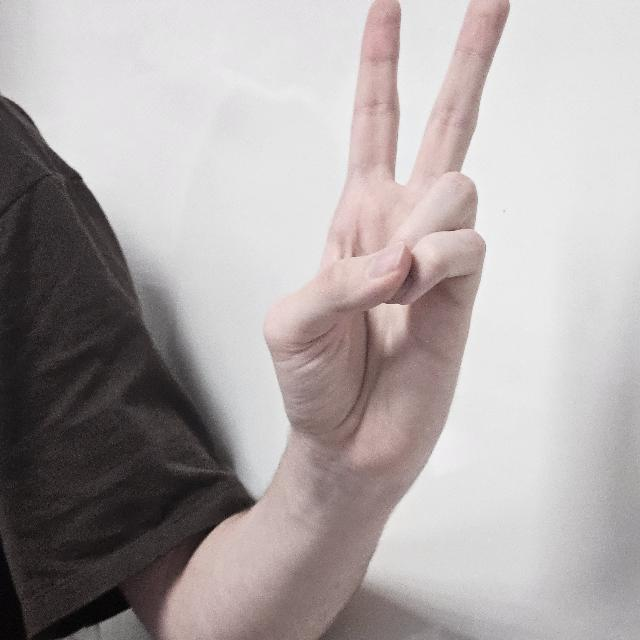Triangulo: (266, 4, 484, 496)
